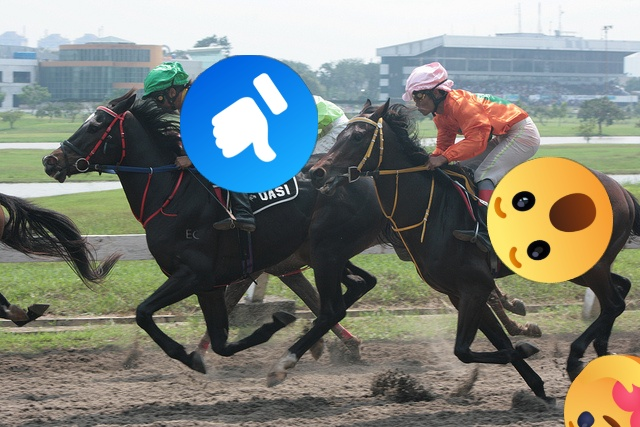care: (564, 355, 640, 427)
like: (180, 55, 318, 193)
wow: (487, 157, 613, 283)
